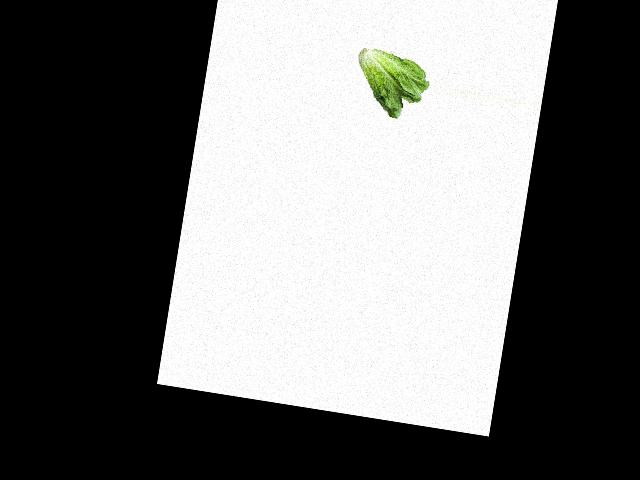lettuce: (349, 44, 435, 125)
